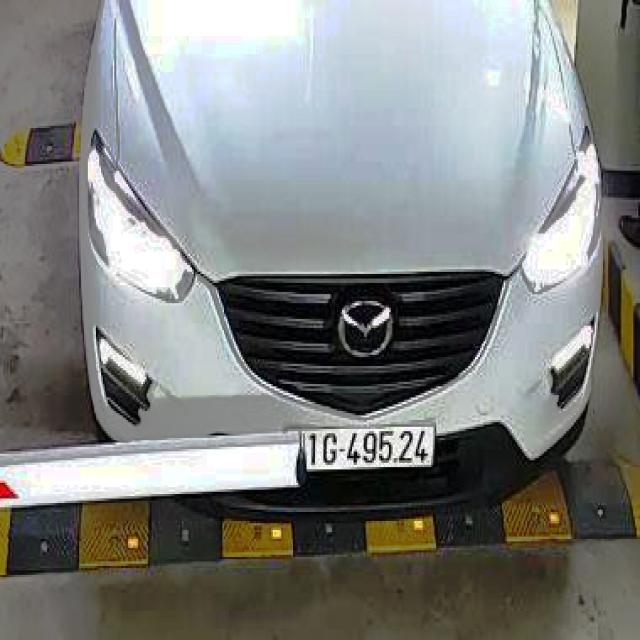license_plate: (304, 429, 437, 469)
